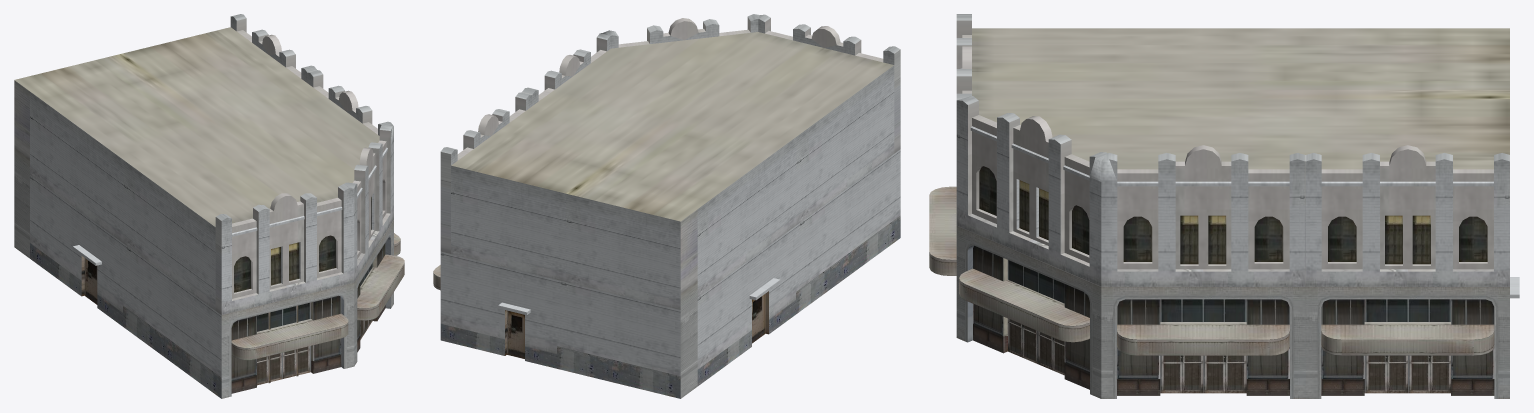
File: o3_edificio_fondo_4.glb
The picture shows the model from 3 angles, left to right: view 1: azimuth 30°, elevation 25°; view 2: azimuth 150°, elevation 25°; view 3: azimuth 270°, elevation 25°; orthographic projection. The views are drawn at different scales.
Parts seen in each view (by area): view 1: sb_modello; view 2: sb_modello; view 3: sb_modello.
Part boxes in pixels (left/top/right/bottom): sb_modello: left=14, top=14, right=404, bottom=398; sb_modello: left=433, top=14, right=900, bottom=398; sb_modello: left=929, top=14, right=1519, bottom=398.
Bounding box in the file's own units: 15.14 × 10.68 × 23.11.
Materials: 2 (2 with a texture image).
